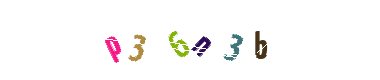3: (120, 0, 200, 80), (193, 0, 273, 80)
6: (132, 0, 212, 80)
B: (196, 0, 276, 80)
N: (150, 0, 230, 80)
P: (73, 0, 153, 80)
